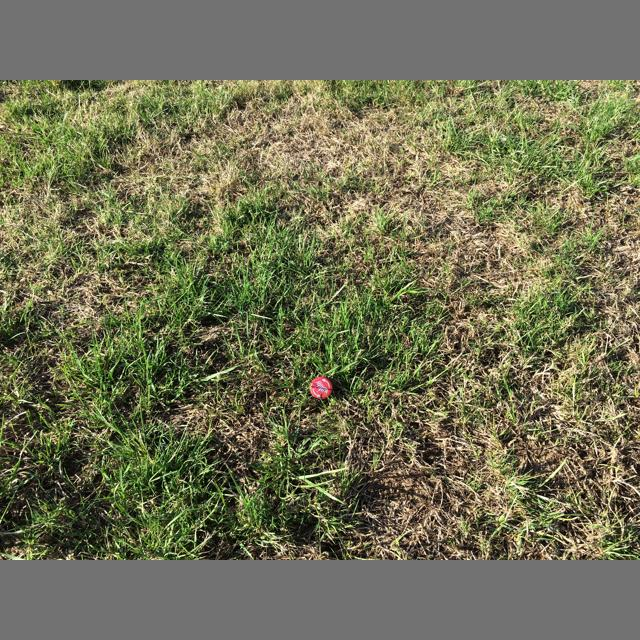litter: (309, 376, 333, 400)
